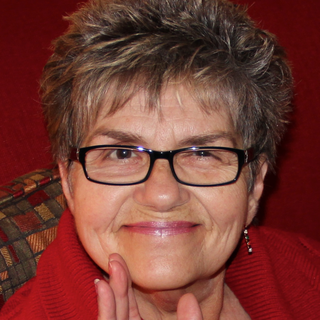eye: (181, 141, 222, 167), (99, 143, 145, 166)
